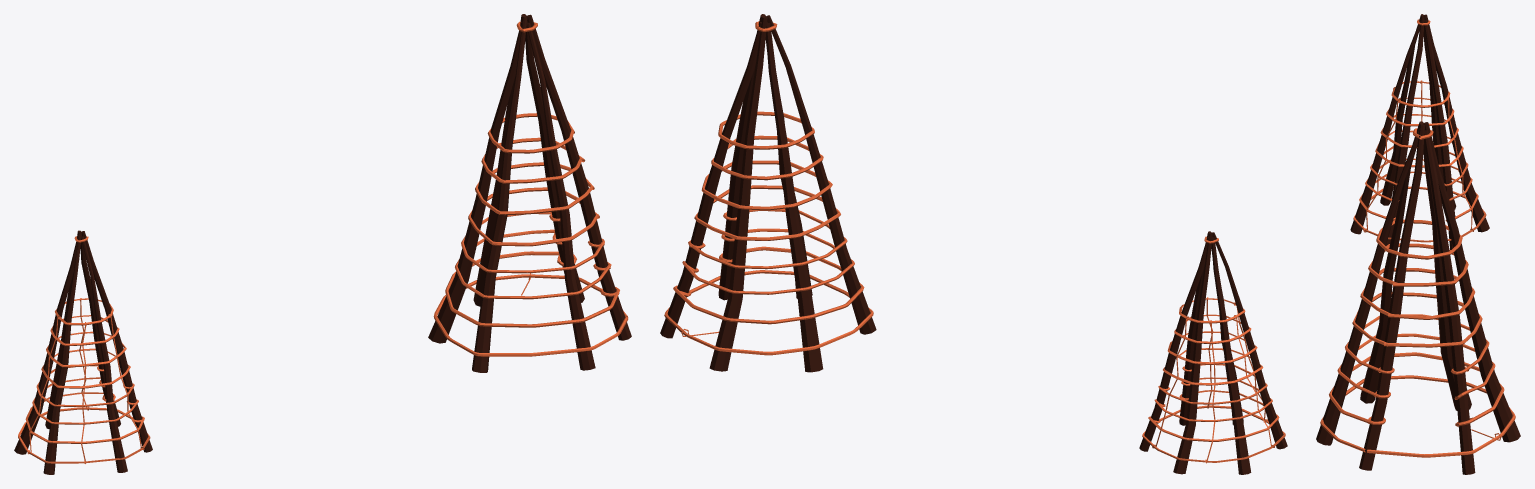
The model's file is SM_FishingTrap_001.fbx.
3 renders of one model, left to right at view 1: azimuth 30°, elevation 25°; view 2: azimuth 150°, elevation 25°; view 3: azimuth 270°, elevation 25°, orthographic.
Visible parts, largest first — view 1: Stick_03, Stick_02.003, Stick_01.002, Stick_03.002, Stick_01.003, Stick_03.003, Circle.019, Circle.011, Stick_02.002, Circle.012, Circle.014, Circle.015 (+2 smaller); view 2: Stick_03, Stick_02.002, Stick_02.003, Stick_03.003, Stick_01.002, Stick_03.002, Circle.019, Circle.011, Circle.012, Circle.014, Circle.015, Circle.013 (+2 smaller); view 3: Stick_03, Stick_03.002, Stick_03.003, Stick_02.002, Stick_01.003, Stick_01.002, Stick_02.003, Circle.019, Circle.011, Circle.014, Circle.015, Circle.012 (+3 smaller).
Part boxes in pixels (x1,y1,x2,y2): Stick_03: [14, 230, 152, 474]; Stick_02.003: [428, 22, 522, 343]; Stick_01.002: [472, 17, 527, 372]; Stick_03.002: [526, 14, 631, 340]; Stick_01.003: [526, 22, 595, 370]; Stick_03.003: [525, 21, 584, 302]; Circle.019: [433, 274, 628, 356]; Circle.011: [445, 251, 619, 327]; Stick_02.002: [473, 14, 526, 306]; Circle.012: [455, 229, 611, 299]; Circle.014: [468, 187, 599, 246]; Circle.015: [475, 162, 594, 215]; Stick_03: [1139, 231, 1287, 474]; Stick_02.002: [709, 17, 767, 371]; Stick_02.003: [766, 22, 823, 372]; Stick_03.003: [660, 22, 761, 338]; Stick_01.002: [766, 15, 876, 334]; Stick_03.002: [718, 14, 765, 300]; Circle.019: [664, 270, 873, 355]; Circle.011: [673, 246, 864, 324]; Circle.012: [682, 228, 854, 294]; Circle.014: [694, 185, 840, 240]; Circle.015: [701, 160, 832, 210]; Circle.013: [688, 208, 847, 269]; Stick_03: [1350, 14, 1489, 249]; Stick_03.002: [1359, 124, 1424, 470]; Stick_03.003: [1424, 130, 1475, 474]; Stick_02.002: [1423, 122, 1520, 442]; Stick_01.003: [1316, 129, 1419, 445]; Stick_01.002: [1360, 121, 1423, 403]; Stick_02.003: [1423, 140, 1471, 410]; Circle.019: [1320, 375, 1515, 457]; Circle.011: [1329, 352, 1504, 426]; Circle.014: [1352, 292, 1482, 347]; Circle.015: [1360, 268, 1475, 319]; Circle.012: [1337, 333, 1495, 399].
Bounding box in the file's own units: 245 × 131 × 75.51.
